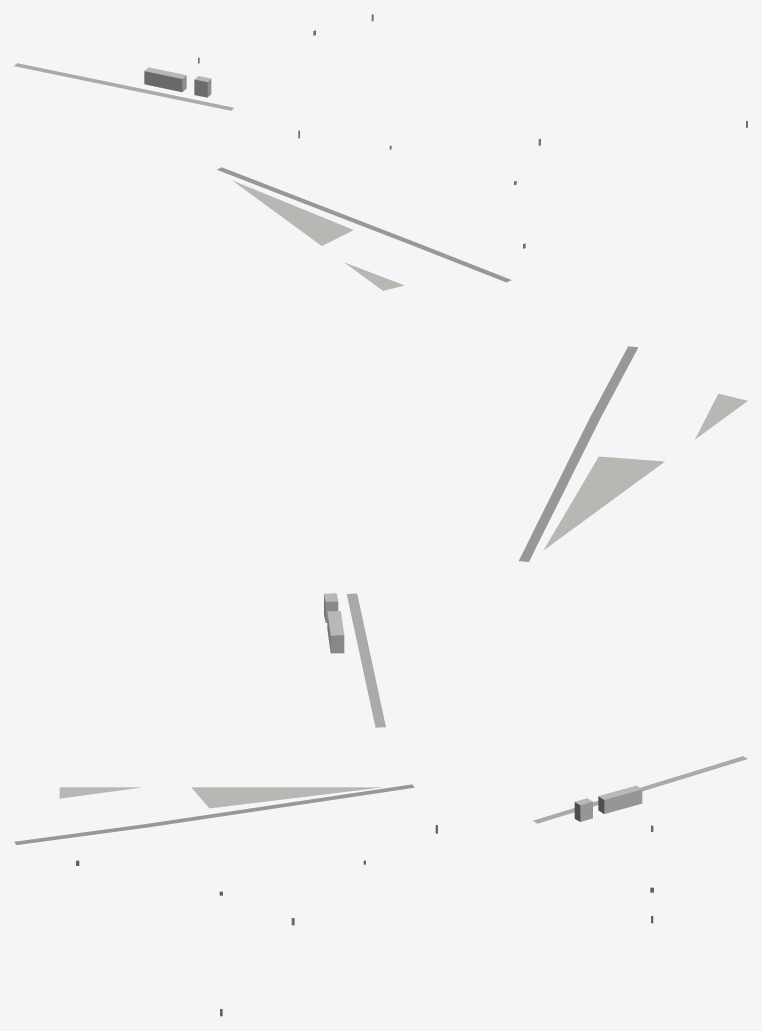
3 views of the same model, one above another, from view 1: azimuth 30°, elevation 25°; view 2: azimuth 150°, elevation 25°; view 3: azimuth 270°, elevation 25° (orthographic). The views are drawn at different scales.
Size of the model in its own units: 509 by 18.4 by 613.
